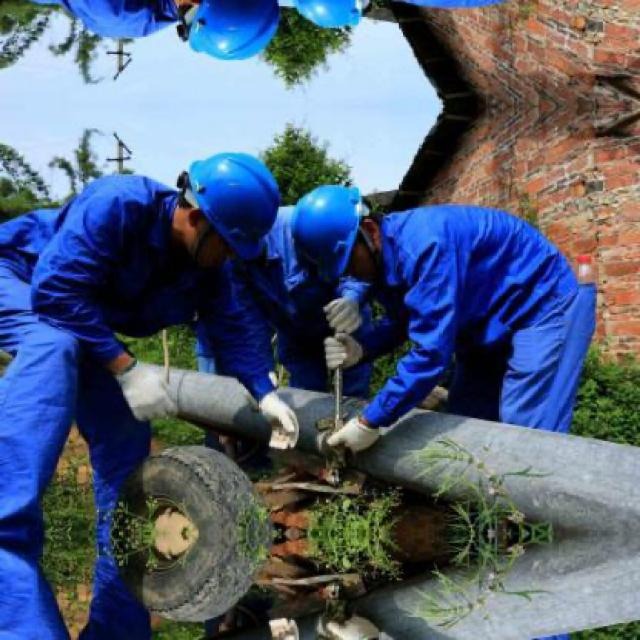2: (3, 157, 286, 532), (294, 192, 614, 446), (2, 535, 286, 639)
helmet: (171, 144, 292, 266), (272, 184, 368, 282), (171, 0, 294, 71), (270, 0, 368, 31)
